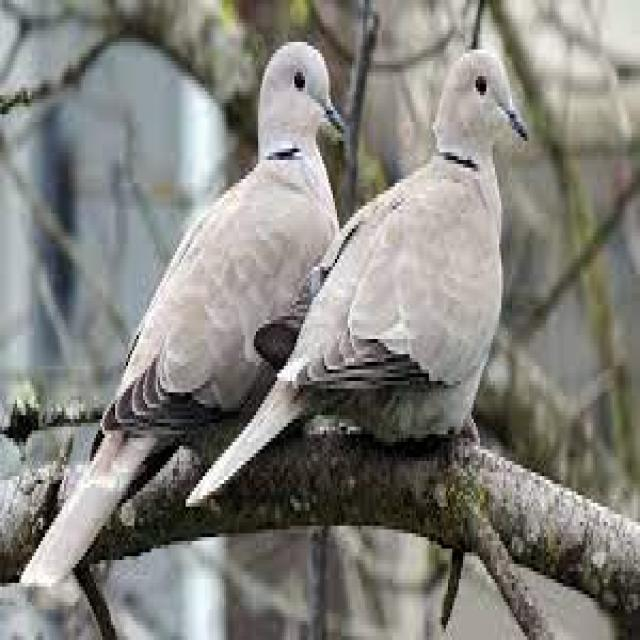bird: (4, 19, 346, 610), (177, 29, 533, 532)
